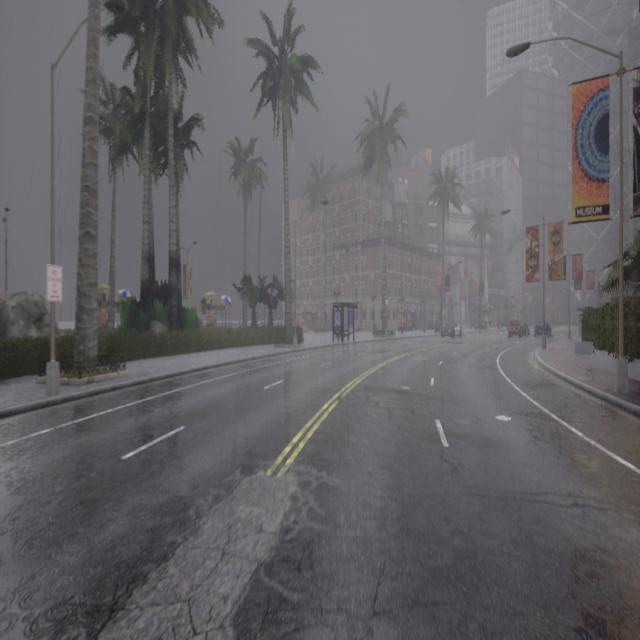bien_chi_dan: (564, 288, 566, 298), (584, 288, 586, 297), (584, 287, 587, 293), (564, 288, 566, 294)
